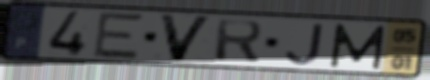4: (46, 9, 89, 59)
E: (91, 11, 147, 61)
J: (283, 22, 326, 67)
M: (328, 22, 389, 71)
R: (212, 18, 266, 65)
V: (157, 12, 216, 64)
